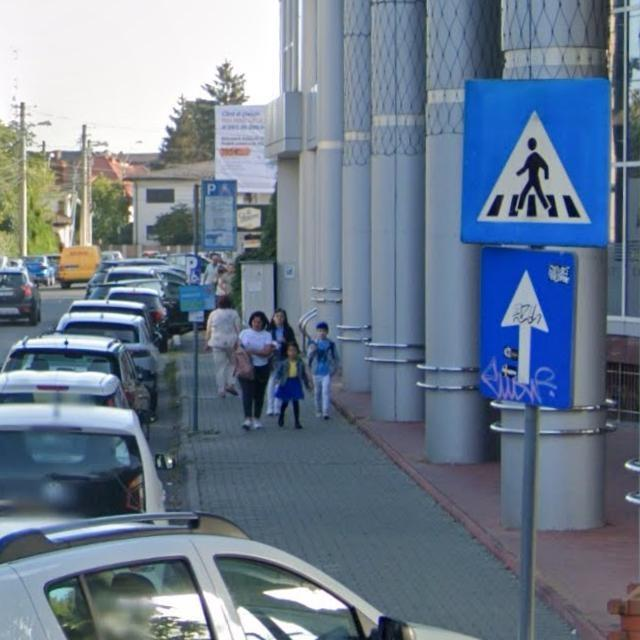info_crosswalk: (461, 77, 611, 244)
